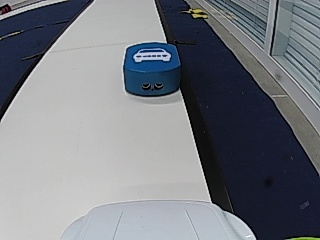safety: (133, 47, 173, 62)
